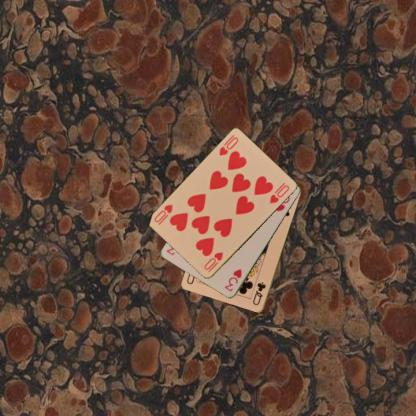10h: (202, 249, 224, 274), (217, 135, 240, 157)
3h: (222, 266, 243, 293)
Qc: (250, 280, 267, 307)
